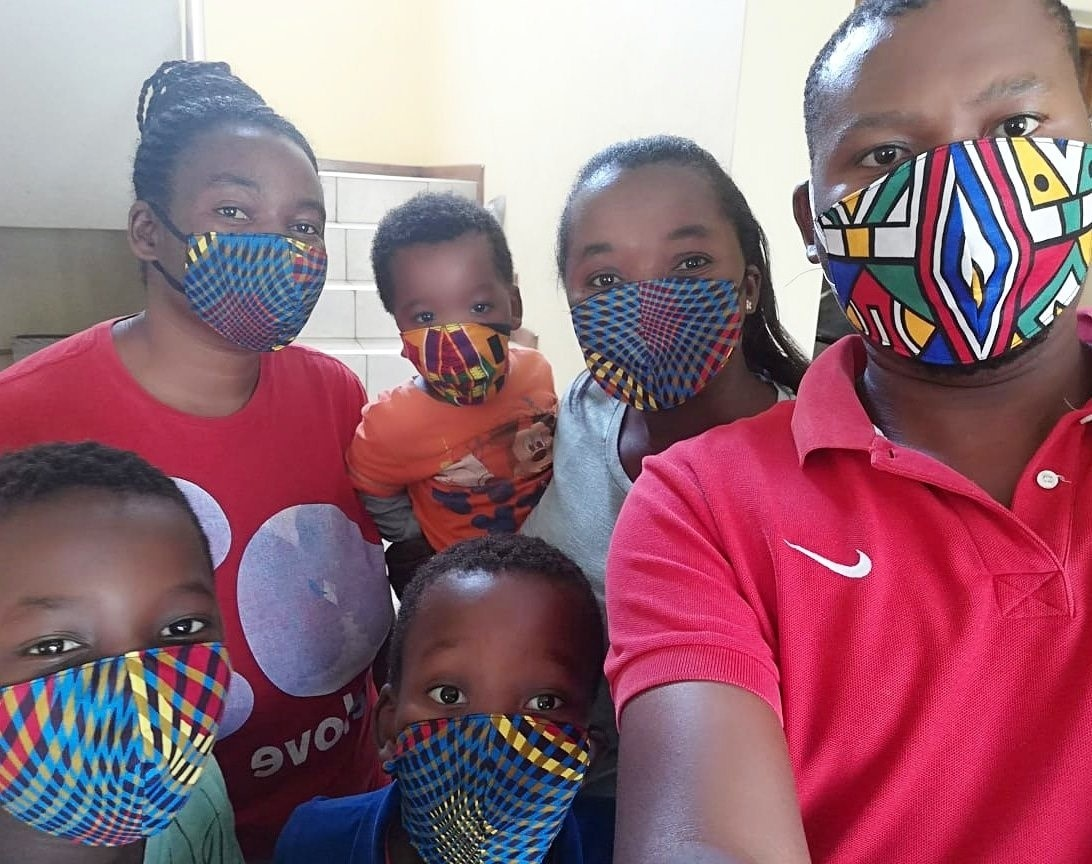face_with_mask: (792, 0, 1092, 372), (0, 442, 232, 859), (383, 537, 602, 863), (134, 55, 330, 354), (556, 138, 757, 415), (372, 189, 523, 407)
